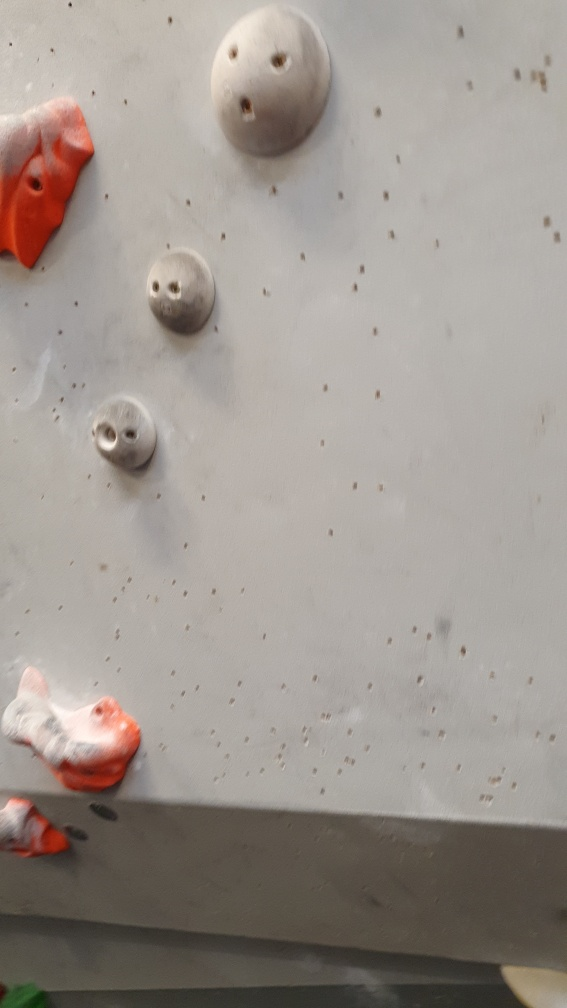Hand Start: (86, 799, 121, 824), (64, 820, 91, 843)
Jug: (2, 660, 145, 798), (1, 96, 99, 268)
Sloper: (204, 1, 340, 163), (140, 244, 223, 343), (92, 394, 162, 472)
